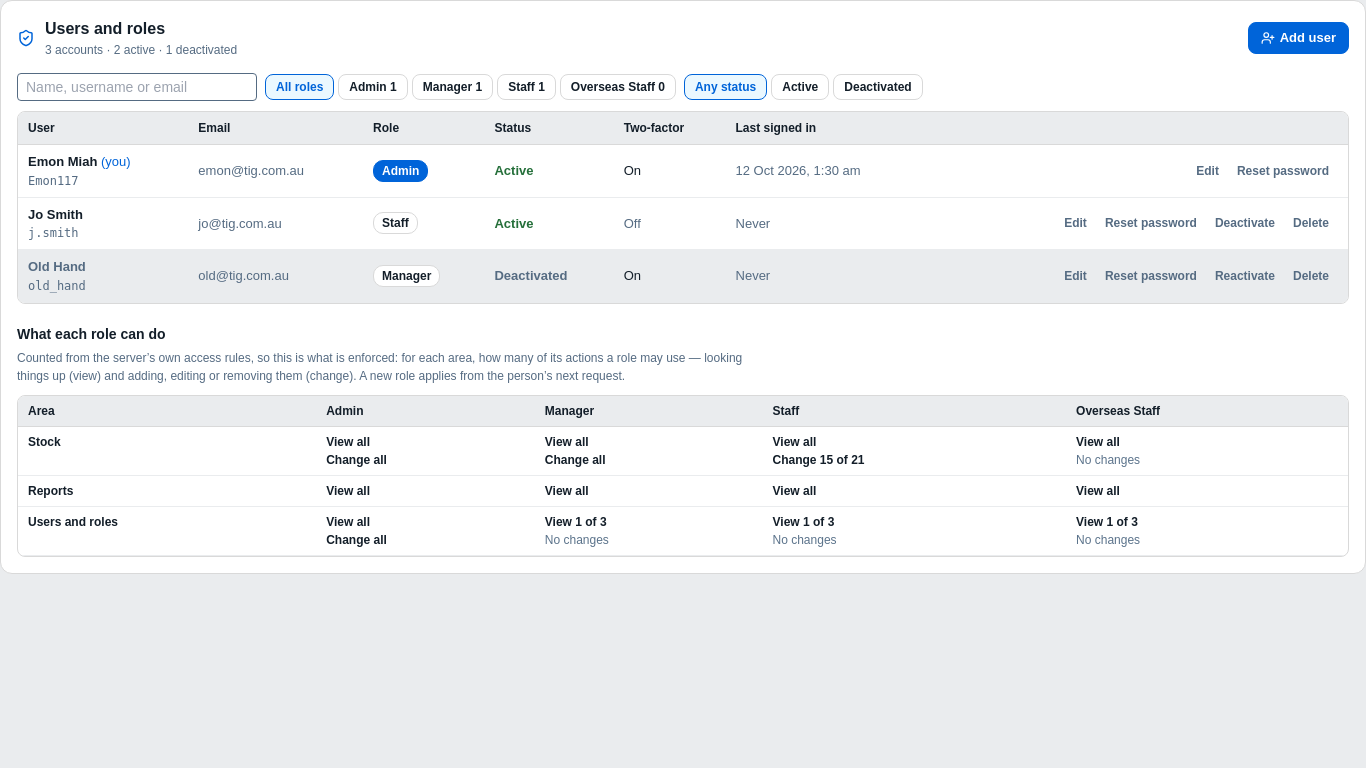
Test: changing an account › an address another account uses cannot be saved
Expected: the text "Jo Smith" is shown, x1=28 y1=206 x2=83 y2=222
Click the button with aria-label "Edit j.smith" at (1076, 223), box x1=1055 y1=210 x2=1096 y2=236
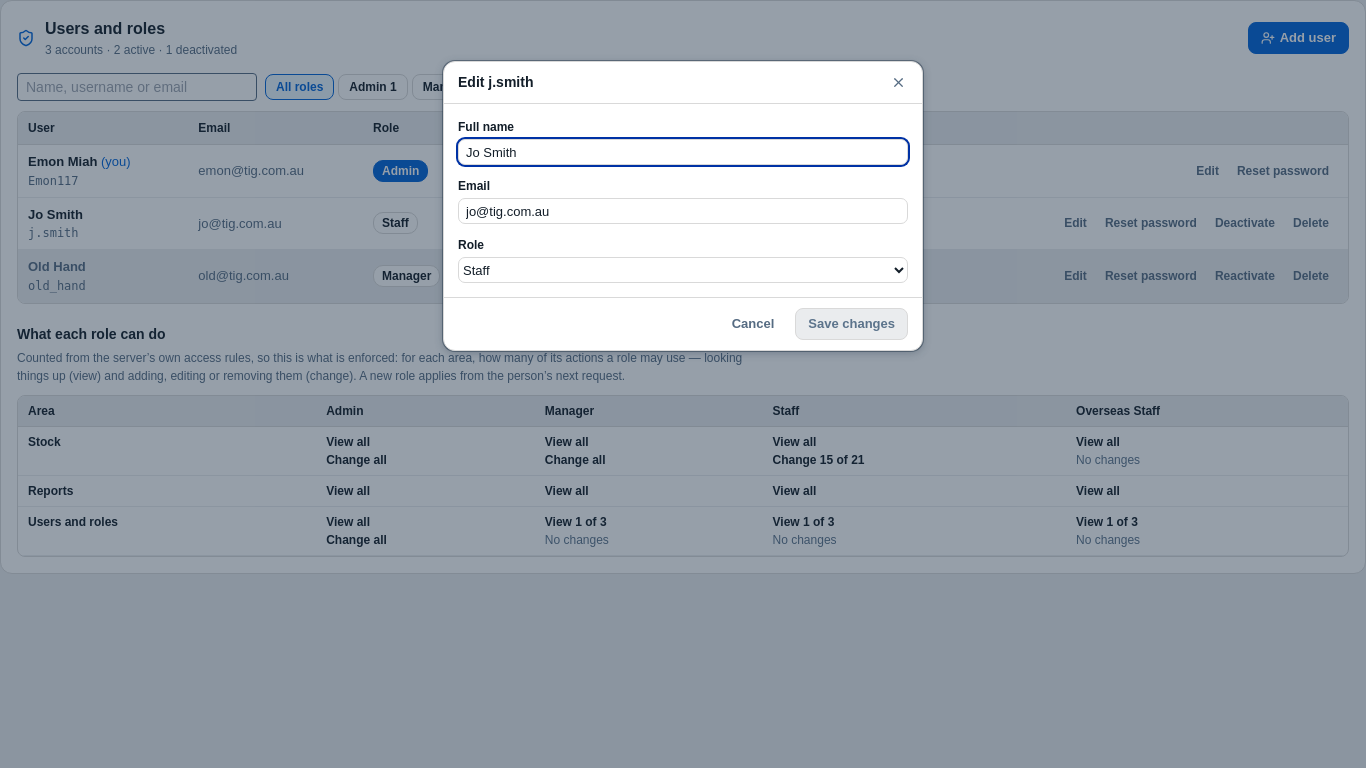
Replace the text in the field labelled "Email" with "emon@tig.com.au" at (683, 211), box x1=458 y1=198 x2=908 y2=224
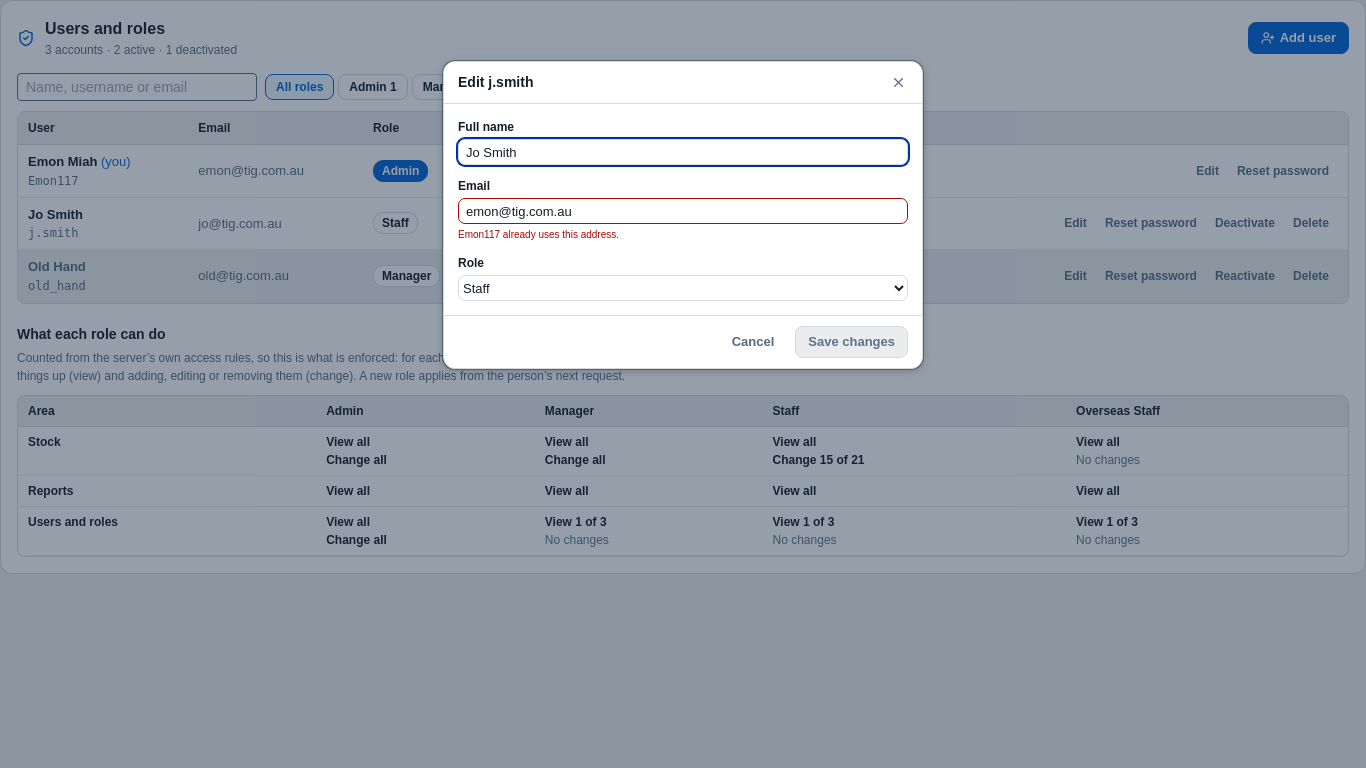
Result: the button "Save changes" is disabled at x1=795 y1=326 x2=908 y2=358
Result: the text "Emon117 already uses this address." is shown at x1=458 y1=229 x2=619 y2=240
